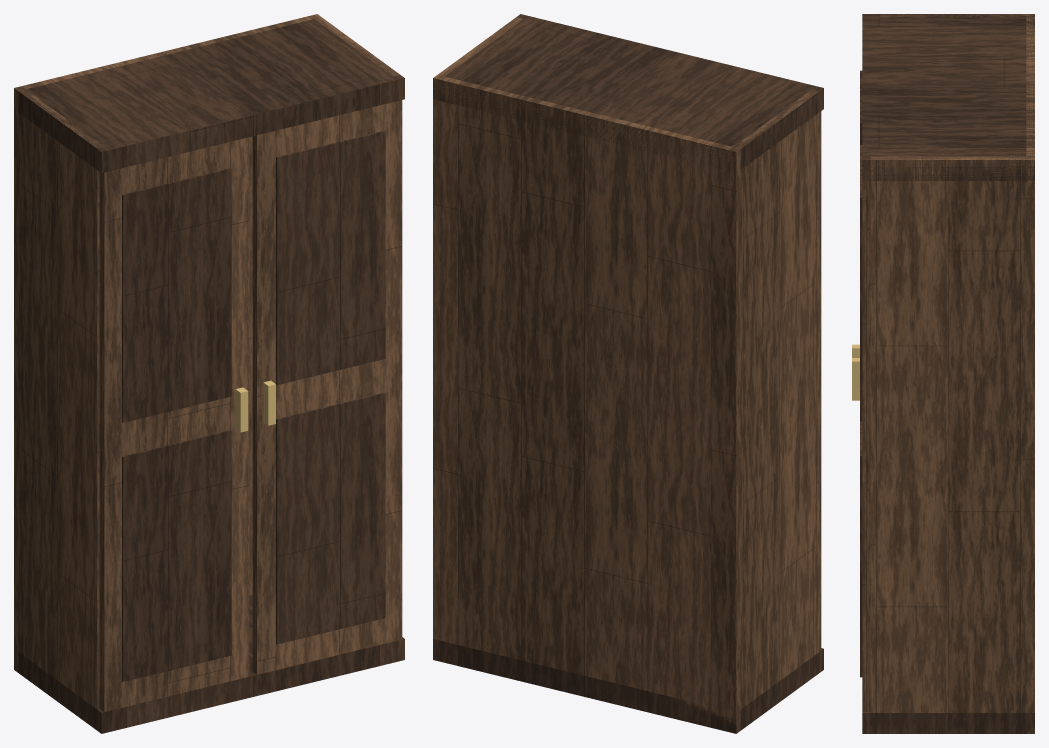
File: INT_Closet.fbx
The picture shows the model from 3 angles, left to right: view 1: azimuth 30°, elevation 25°; view 2: azimuth 150°, elevation 25°; view 3: azimuth 270°, elevation 25°; orthographic projection.
Parts seen in each view (by area): view 1: INT_Closet, HojaIzq, HojaDer; view 2: INT_Closet, HojaIzq; view 3: INT_Closet, HojaDer, HojaIzq.
Part boxes in pixels (bbox=[...]): INT_Closet: bbox=[14, 14, 404, 733]; HojaIzq: bbox=[99, 137, 249, 711]; HojaDer: bbox=[252, 100, 402, 674]; INT_Closet: bbox=[433, 14, 823, 733]; HojaIzq: bbox=[819, 111, 821, 648]; INT_Closet: bbox=[862, 14, 1034, 733]; HojaDer: bbox=[852, 145, 870, 711]; HojaIzq: bbox=[852, 70, 862, 357].
Size of the model in its own units: 1.2 by 2.2 by 0.635.
